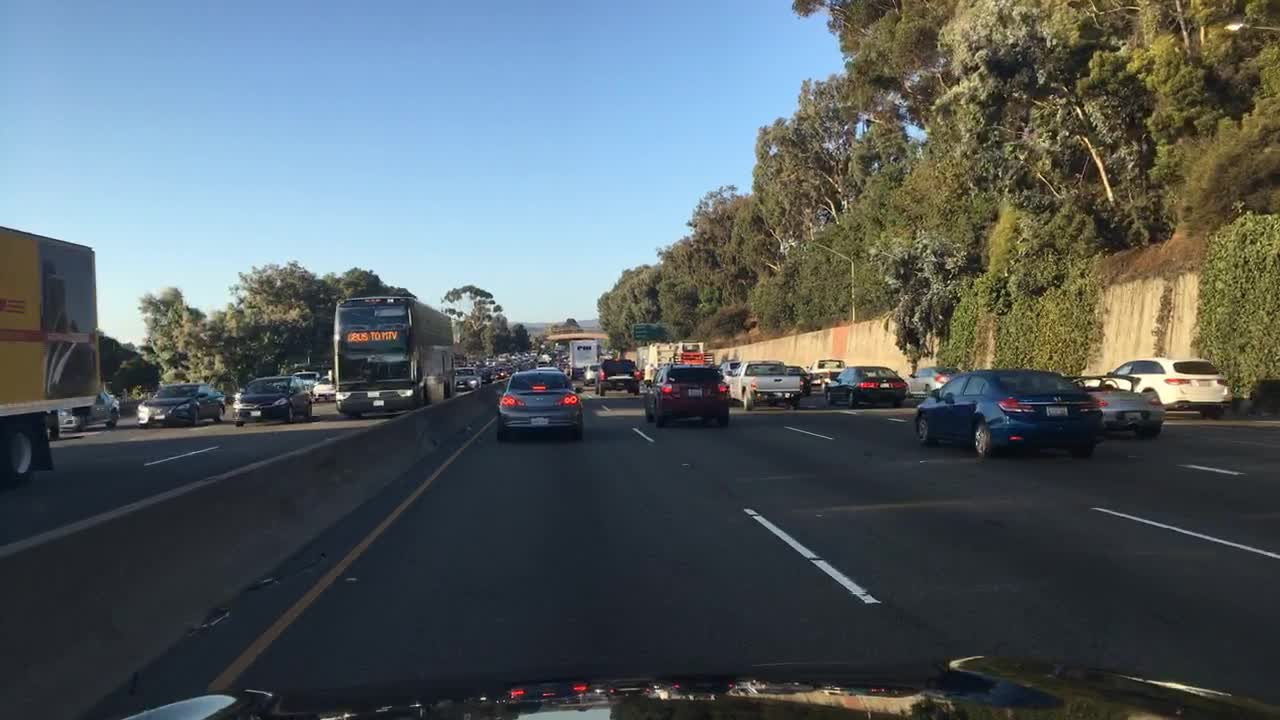bus: (332, 287, 455, 422)
car: (910, 365, 1107, 458), (1101, 354, 1231, 418), (495, 367, 584, 443), (642, 353, 731, 429), (1067, 372, 1168, 436), (230, 373, 314, 429), (136, 380, 227, 426), (822, 363, 910, 409), (60, 388, 120, 431), (905, 365, 963, 405), (592, 355, 644, 395), (804, 356, 852, 396), (565, 337, 601, 379), (782, 363, 812, 397), (718, 359, 745, 393), (578, 360, 604, 388), (292, 367, 317, 395), (452, 366, 482, 389), (313, 373, 335, 401), (479, 366, 495, 382), (495, 366, 509, 379), (483, 354, 497, 367), (495, 351, 510, 363), (559, 361, 570, 376), (510, 349, 524, 360), (510, 363, 524, 373), (525, 360, 535, 373), (549, 357, 561, 367), (535, 358, 547, 367), (527, 348, 538, 357)
truck: (0, 220, 100, 485), (727, 357, 803, 414)
